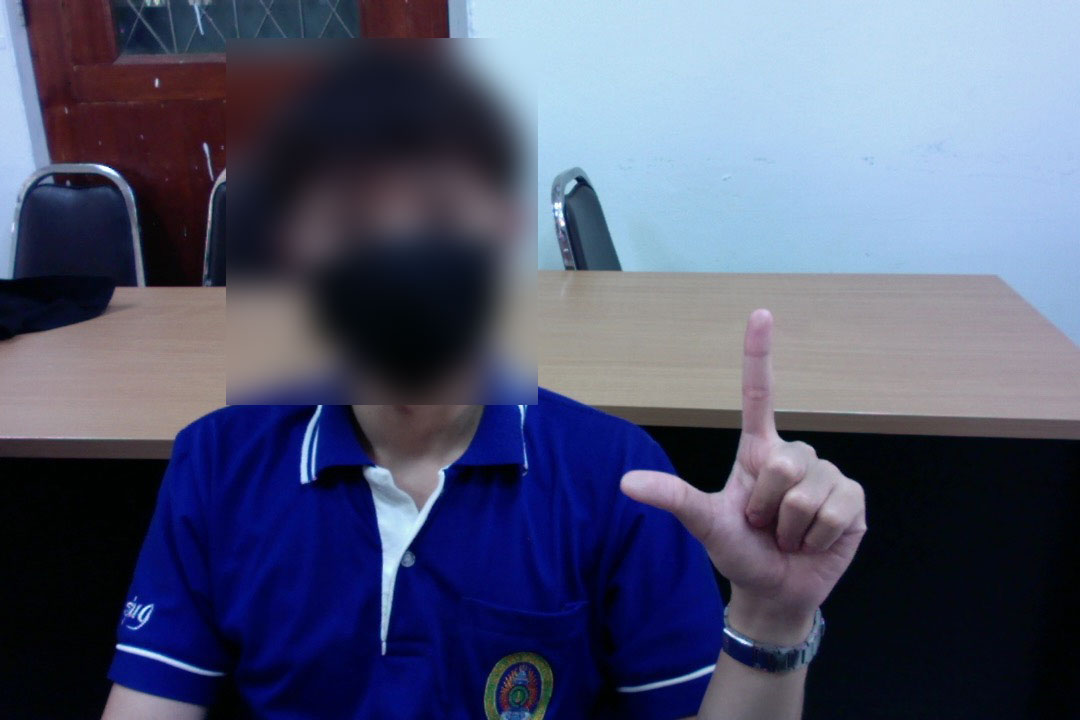lor: (607, 300, 867, 668)
